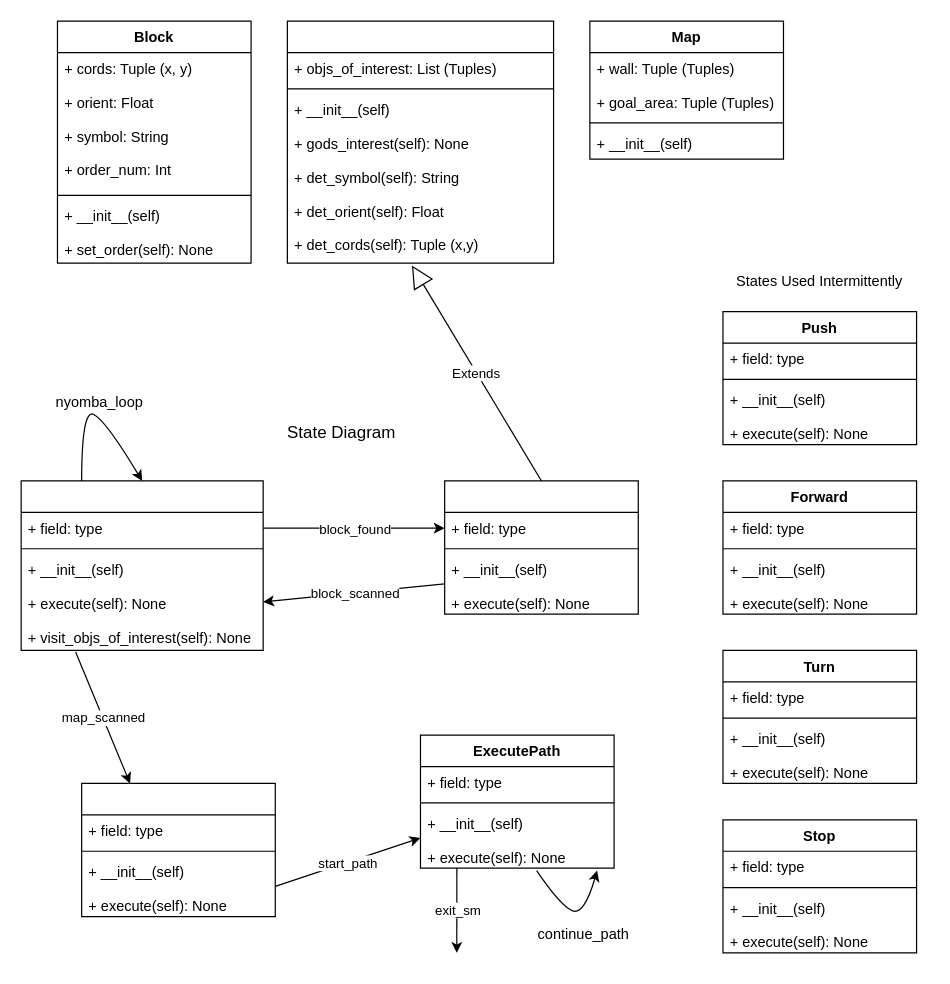
Image size: 950x984. Some labels were removed from this diagram. The box of each missing label's shape, as (x1, y1, x2, y2) in pixels:
CameraCV: (286, 20, 554, 263)
FindPath: (80, 782, 275, 917)
IdentifyBlock: (443, 480, 638, 614)
Nyomba: (20, 480, 263, 650)
